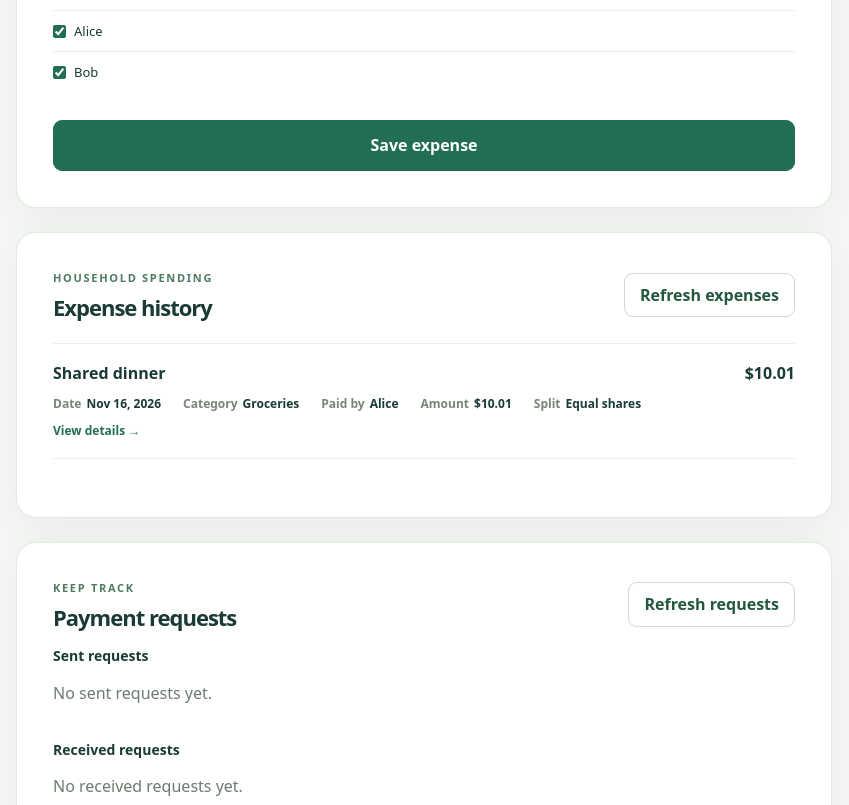
Test: expense history and details › shows a missing-resource state for a deleted or out-of-household expense
(page scrolled)
Step 1. Click the button with aria-label "View Shared dinner" → (424, 401), box [53,344,795,458]
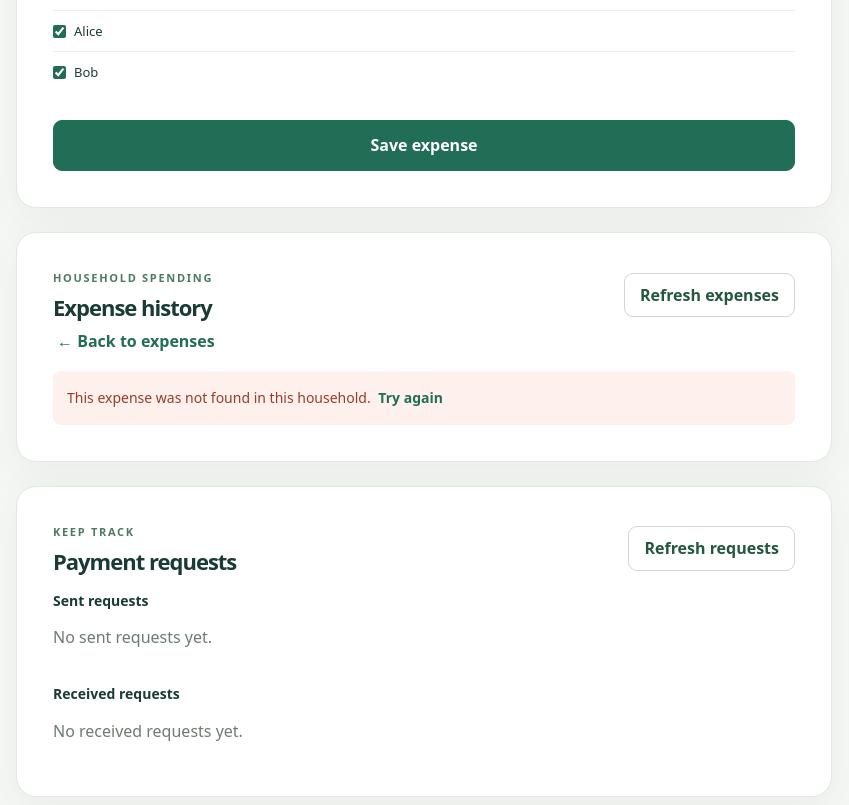
Expected: the message shows "This expense was not found in this household.", [67,388,371,407]
